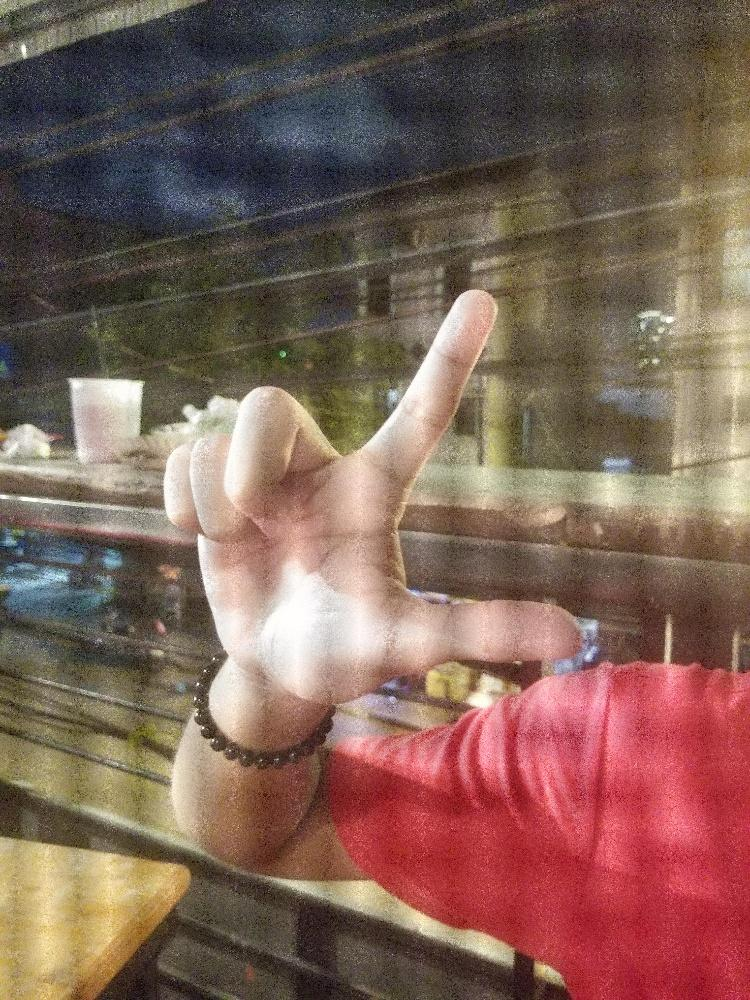l: (159, 287, 583, 706)
